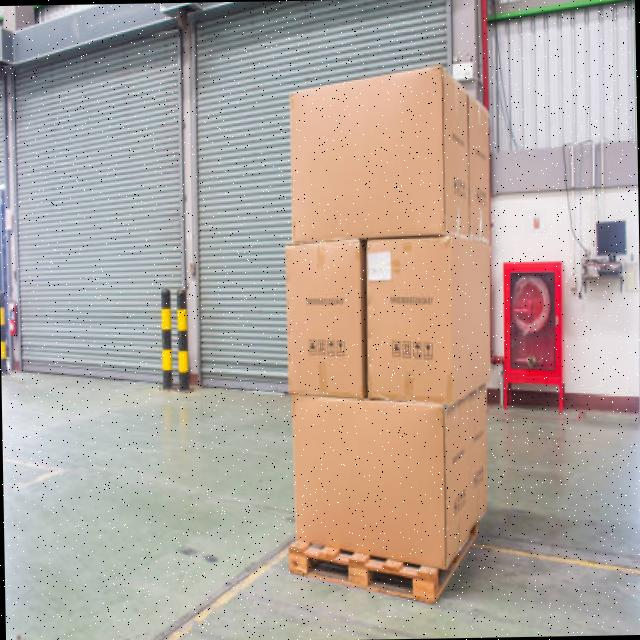Wooden-Pallets: (287, 525, 480, 608)
